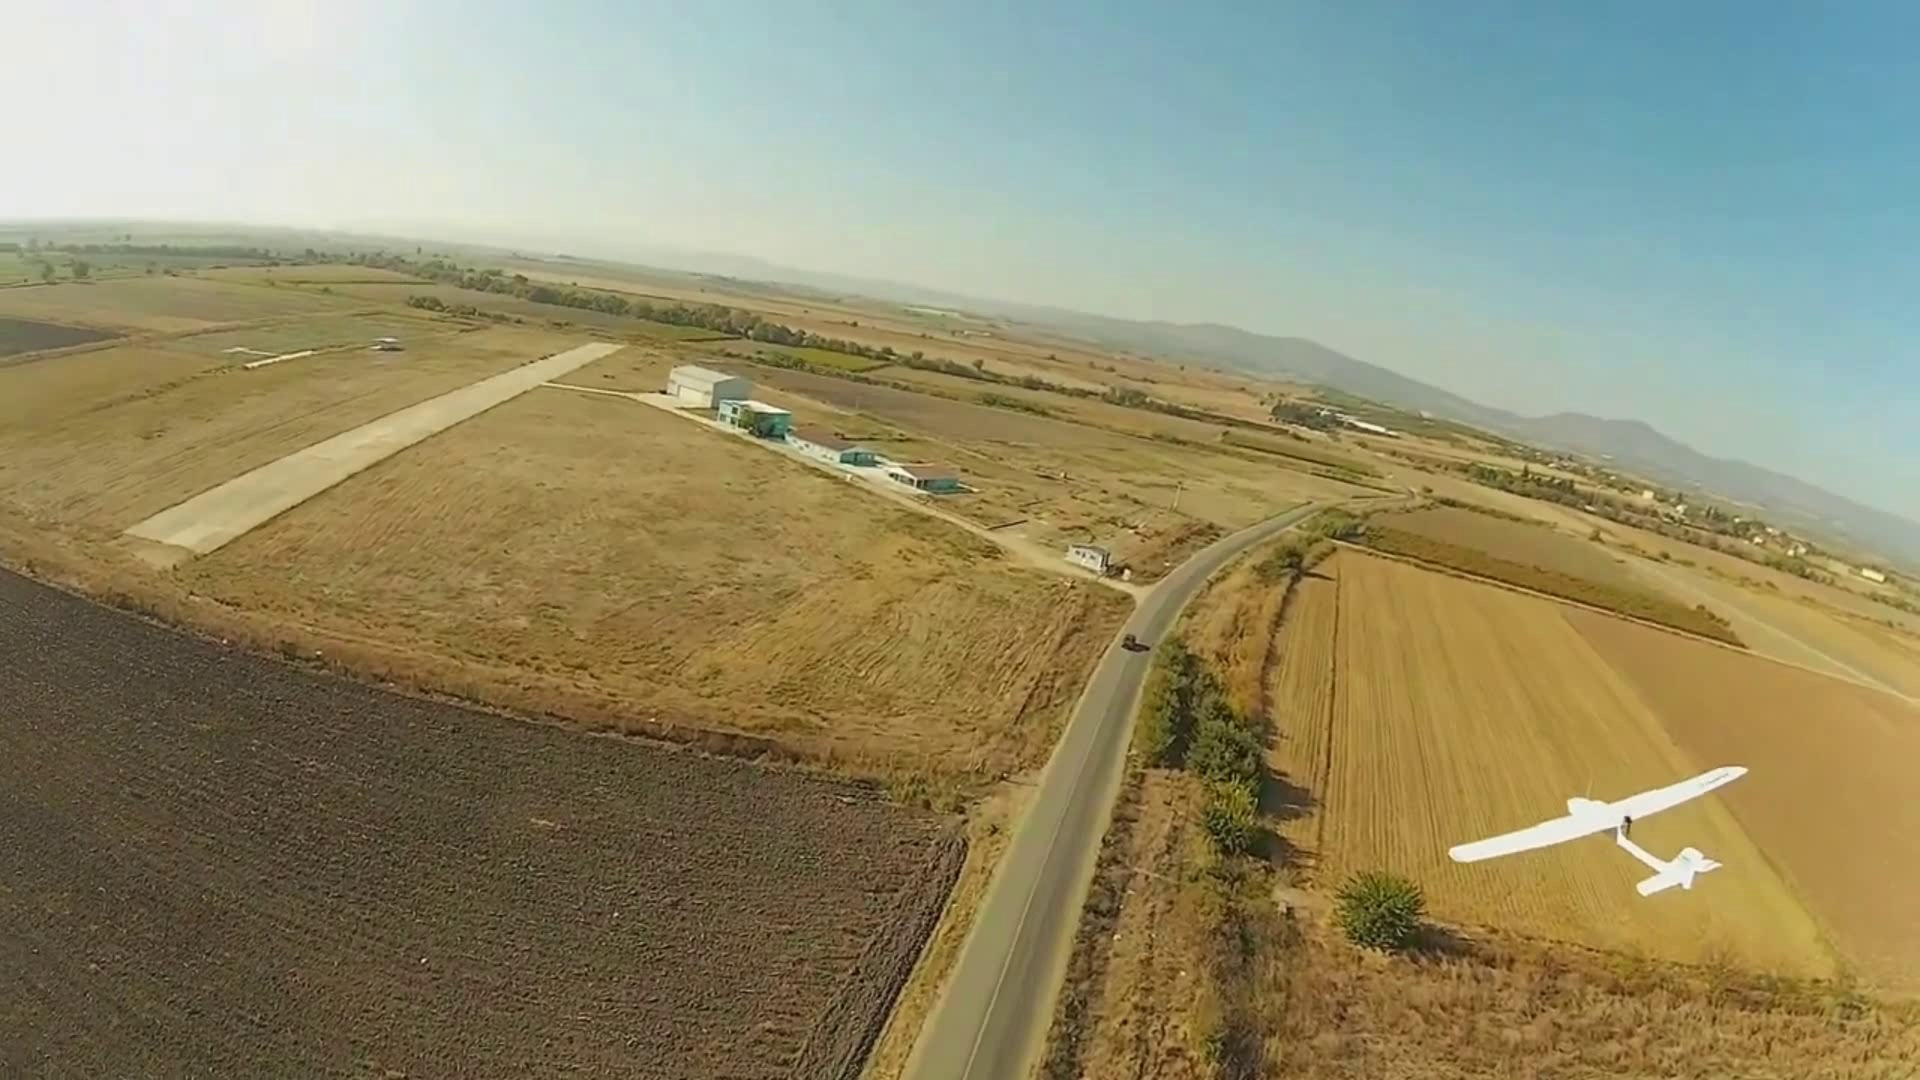airplane: (1447, 764, 1751, 895)
